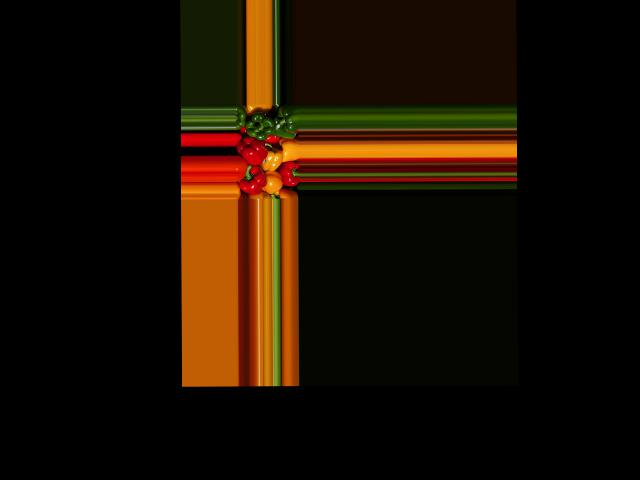bell_pepper: (235, 104, 250, 130)
